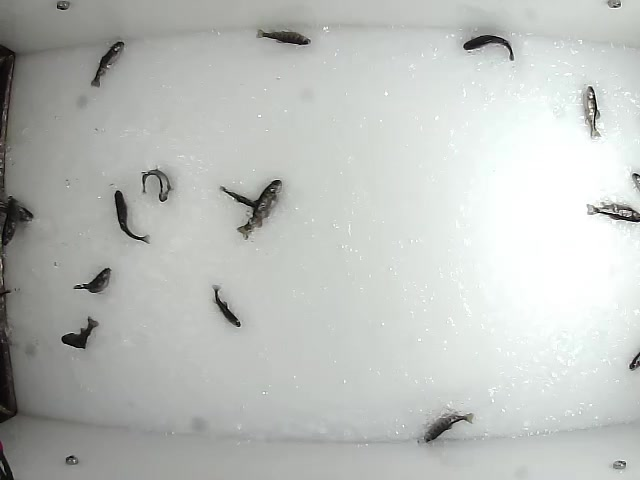fish: (235, 179, 284, 244), (112, 190, 152, 248), (419, 410, 479, 446), (89, 39, 127, 89), (461, 32, 517, 62), (59, 313, 100, 351), (254, 23, 314, 47), (211, 282, 242, 328), (585, 200, 640, 224), (71, 264, 113, 294), (139, 166, 172, 203), (582, 85, 604, 140), (219, 185, 263, 212)
